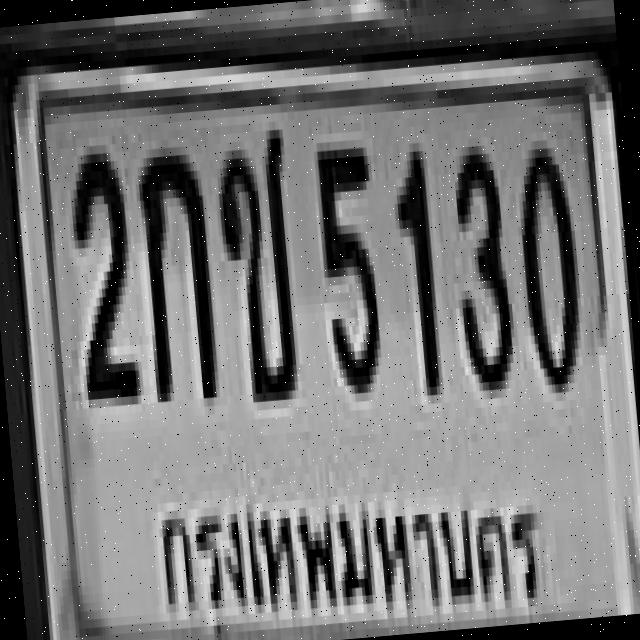0: (510, 138, 584, 386)
1: (388, 142, 439, 388)
10GorGai: (132, 137, 216, 402)
19ChorChang: (210, 121, 302, 395)
2: (63, 143, 137, 400)
3: (444, 136, 514, 383)
5: (309, 139, 383, 387)
